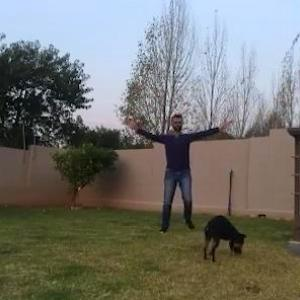takeoff: (130, 112, 242, 239)
